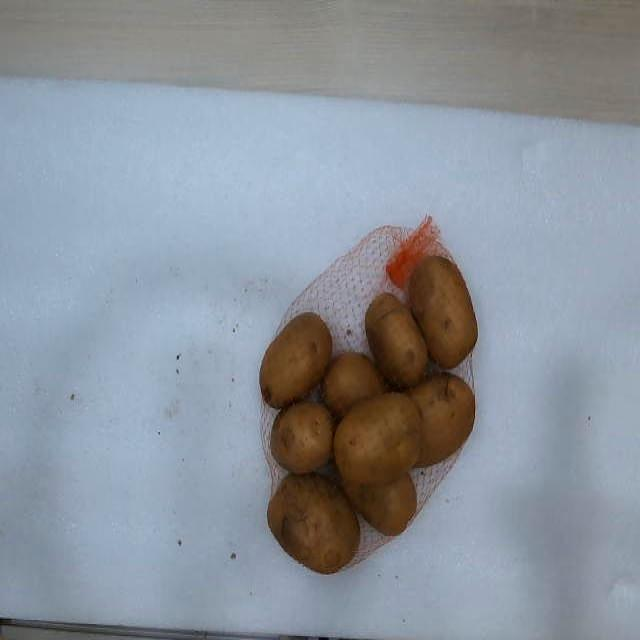potato: (268, 477, 360, 573), (334, 393, 420, 484), (409, 257, 476, 368), (259, 312, 332, 408), (409, 372, 475, 466), (365, 293, 429, 388), (270, 402, 334, 473), (345, 473, 416, 536), (324, 353, 385, 416)
